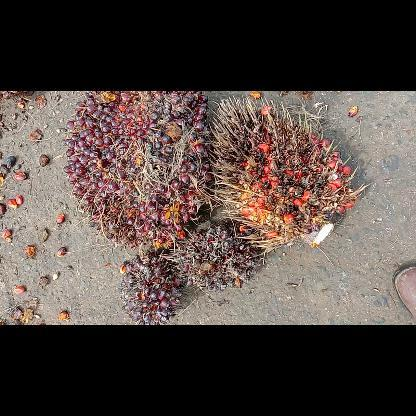TBS abnormal: (173, 223, 261, 293), (118, 252, 182, 324)
TBS masak: (61, 92, 215, 250)
Terlalu masak: (210, 95, 356, 249)
